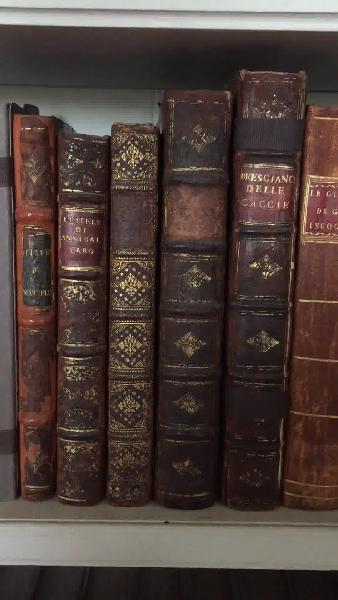Aa6-28: (15, 111, 55, 495)
Aa6-29: (58, 127, 109, 497)
Aa6-30: (105, 114, 160, 518)
Aa6-31: (160, 80, 225, 517)
Aa6-32: (226, 59, 304, 506)
Aa6-33: (283, 86, 338, 516)
